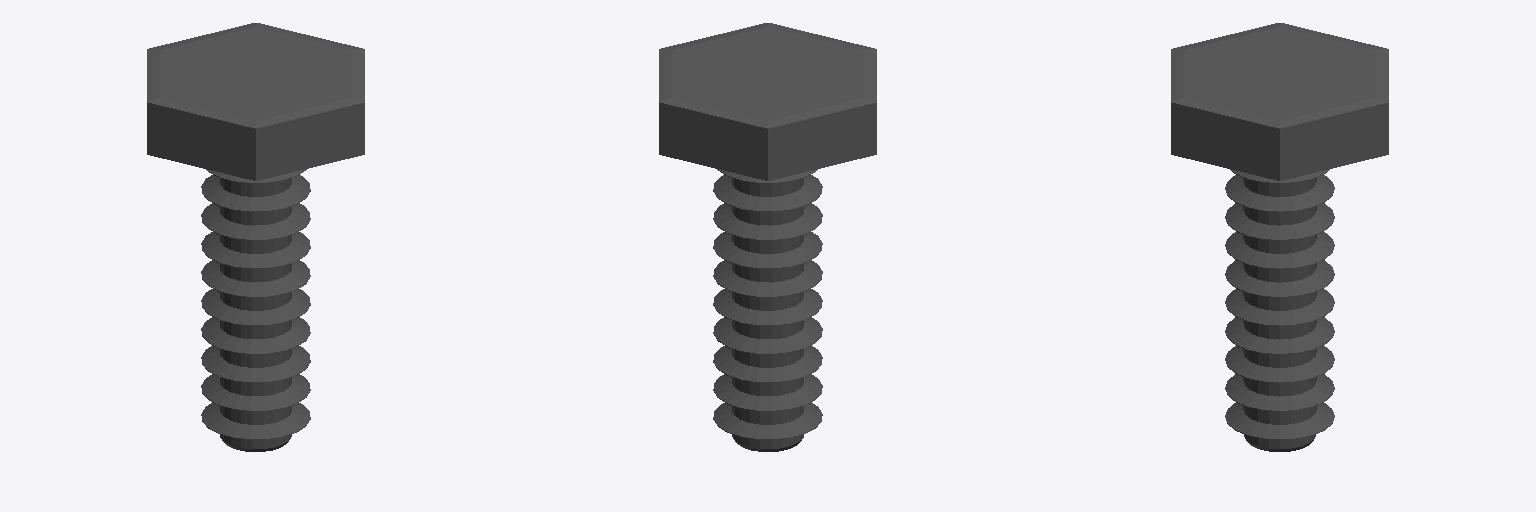
The model's file is bolt.obj.
3 views of the same model, side by side, from view 1: azimuth 30°, elevation 25°; view 2: azimuth 150°, elevation 25°; view 3: azimuth 270°, elevation 25° (orthographic).
Parts seen in each view (by area): view 1: pCylinder1, pCylinder2; view 2: pCylinder1, pCylinder2; view 3: pCylinder1, pCylinder2.
Boxes of the visible parts, x1=… form: pCylinder1: x1=147, y1=23, x2=364, y2=180; pCylinder2: x1=201, y1=169, x2=310, y2=451; pCylinder1: x1=659, y1=23, x2=876, y2=180; pCylinder2: x1=713, y1=169, x2=822, y2=451; pCylinder1: x1=1171, y1=23, x2=1388, y2=180; pCylinder2: x1=1225, y1=169, x2=1334, y2=451.
Size of the model in its own units: 2 by 3.19 by 1.73.